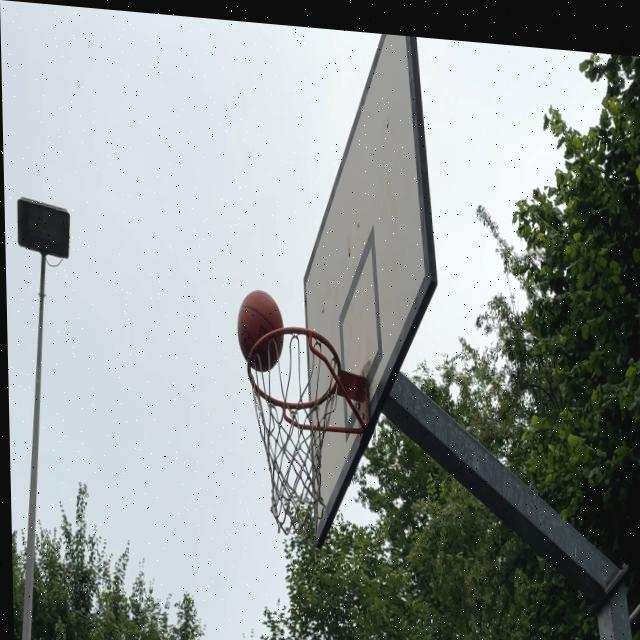rebound_hit: (237, 289, 286, 374)
